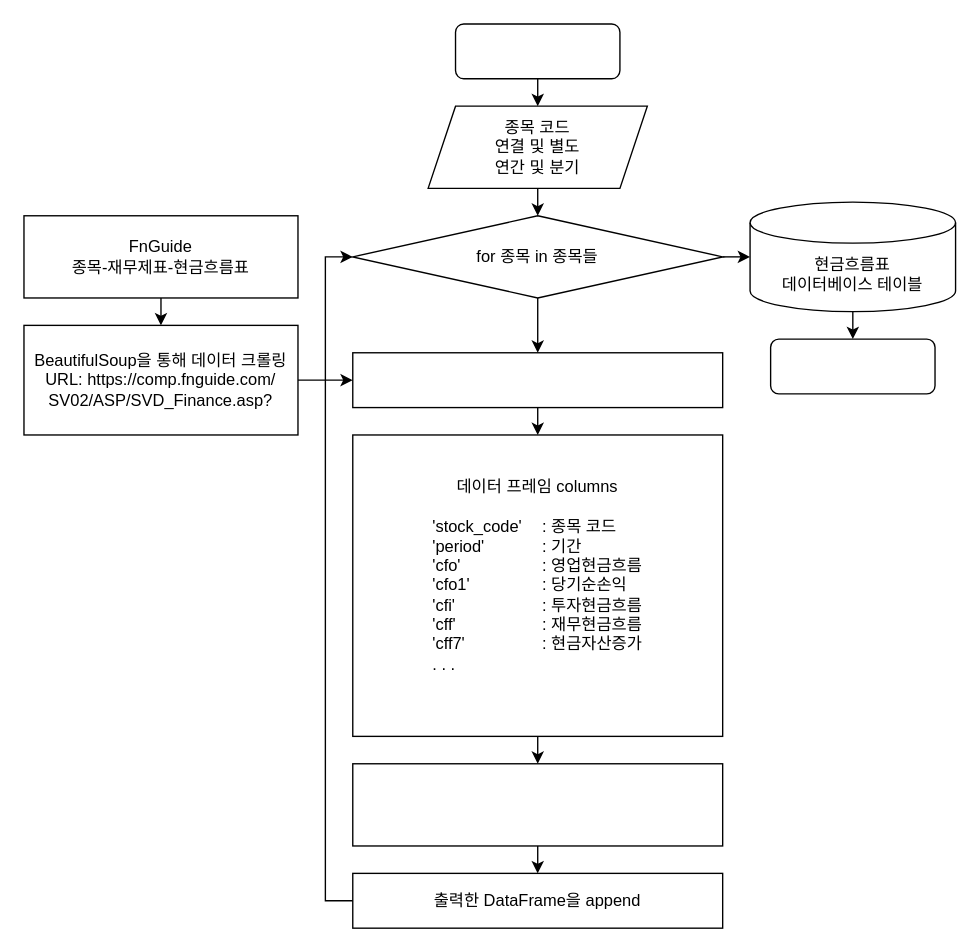
Image size: 980x952. Some labels were removed from this diagram. The shapes that lost their labels are listed below. From the top down, each one's box as (x1, y1, x2, y2) in pixels, then its label:
(454, 23, 620, 79): Start
(351, 351, 723, 408): FnGuide로부터 현금흐름표 불러오기
(769, 338, 935, 394): END
(351, 762, 723, 846): 데이터 프레임 columns 추가 'rpt_type' + 'freq' : 재무제표종류
